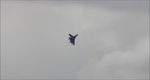maybay_muctieu: (68, 33, 79, 47)
